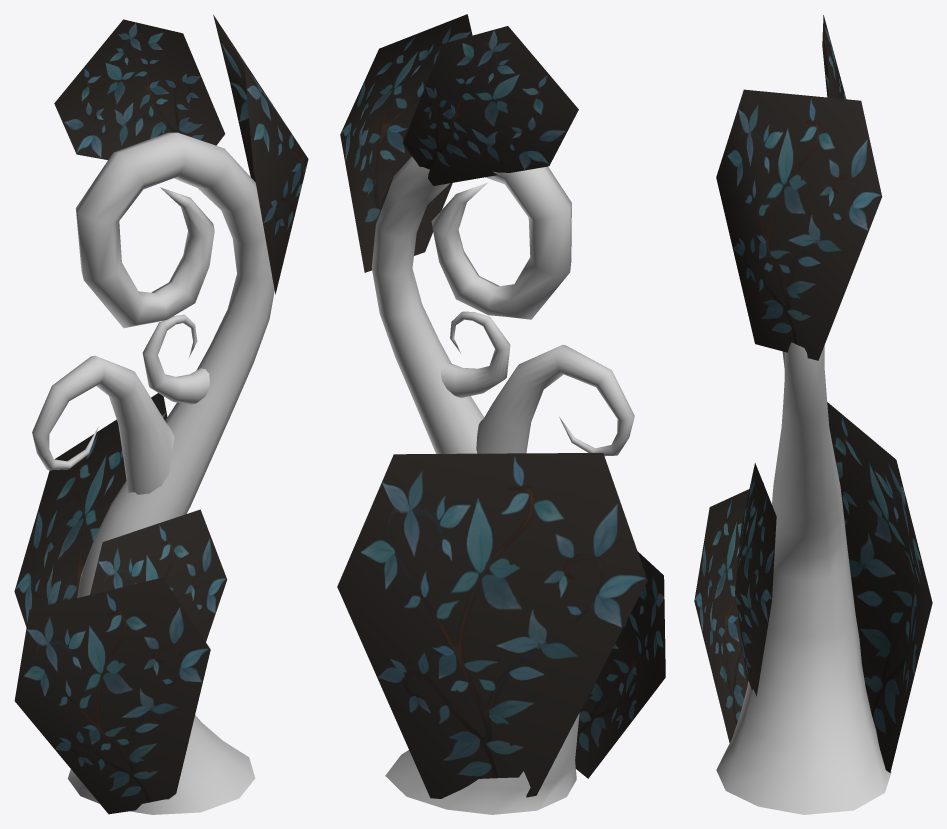
The model's file is lightPlant2.fbx.
3 views of the same model, side by side, from view 1: azimuth 30°, elevation 25°; view 2: azimuth 150°, elevation 25°; view 3: azimuth 270°, elevation 25° (orthographic). The views are drawn at different scales.
Visible parts, largest first — view 1: lightPlant2; view 2: lightPlant2; view 3: lightPlant2.
Boxes of the visible parts, x1=… form: lightPlant2: x1=14, y1=14, x2=308, y2=814; lightPlant2: x1=337, y1=14, x2=665, y2=814; lightPlant2: x1=694, y1=15, x2=932, y2=814.
Size of the model in its own units: 1.67 by 4.16 by 1.2.
